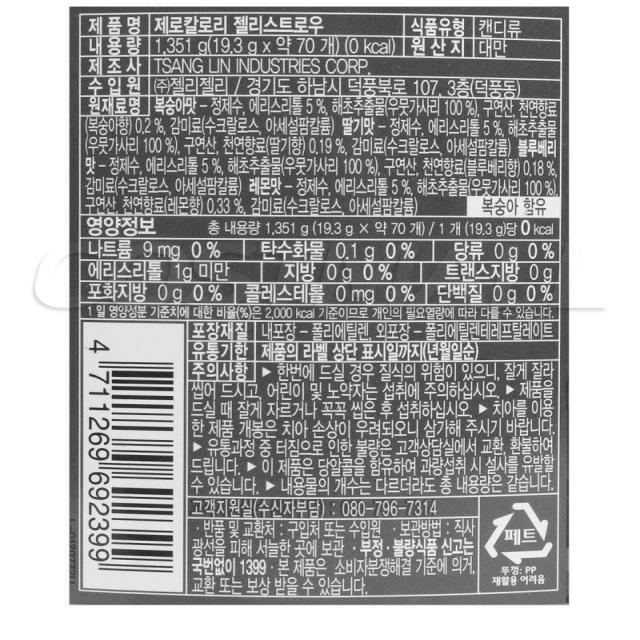Nutrition Label: (77, 210, 575, 324)
